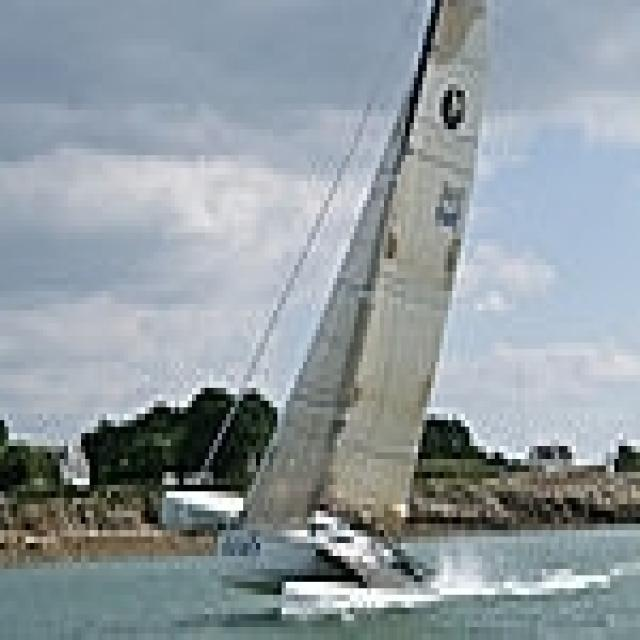Ship: (174, 5, 493, 598)
